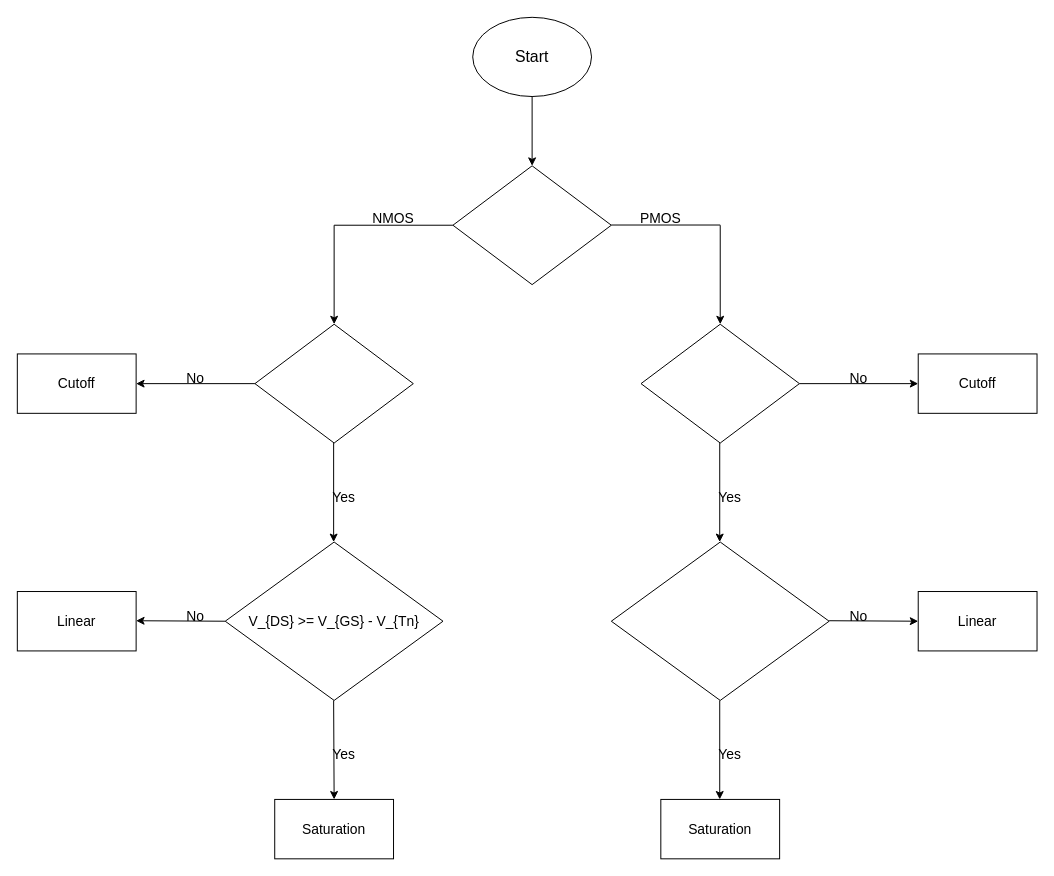
The diagram is 1054 pixels wide and 876 high, and some of its shapes have lost their labels. Each missing label, with the box of its shape:
NMOS or PMOS ?: (452, 165, 611, 285)
V_{ SD} >= V_{SG} - |V_{Tp}|: (610, 541, 829, 700)
V_{GS} >= V_Tn: (254, 323, 413, 443)
V_{SG} >= |V_Tp|: (640, 323, 799, 443)
